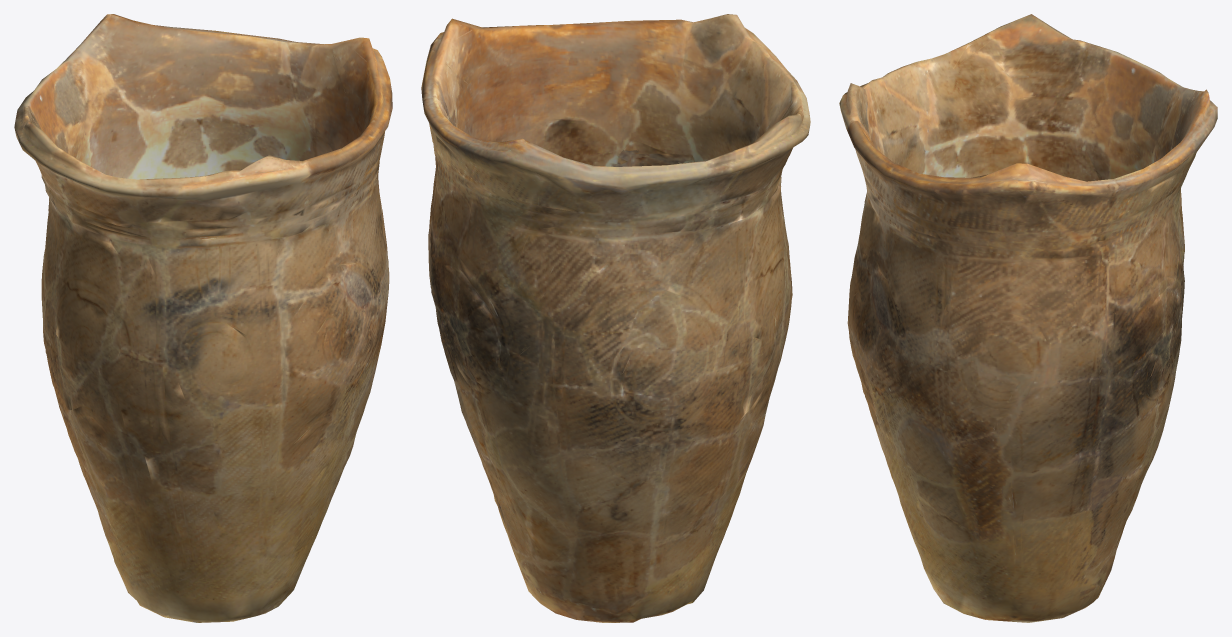
3 views of the same model, side by side, from view 1: azimuth 30°, elevation 25°; view 2: azimuth 150°, elevation 25°; view 3: azimuth 270°, elevation 25° (orthographic). The views are drawn at different scales.
Visible parts, largest first — view 1: NM0073_low; view 2: NM0073_low; view 3: NM0073_low.
Boxes of the visible parts, box(x1,y1,x2,y2) form: NM0073_low: box(14, 14, 392, 622); NM0073_low: box(421, 14, 810, 622); NM0073_low: box(839, 14, 1217, 622).
Size of the model in its own units: 286 by 402 by 273.
Materials: 1 (1 with a texture image).
